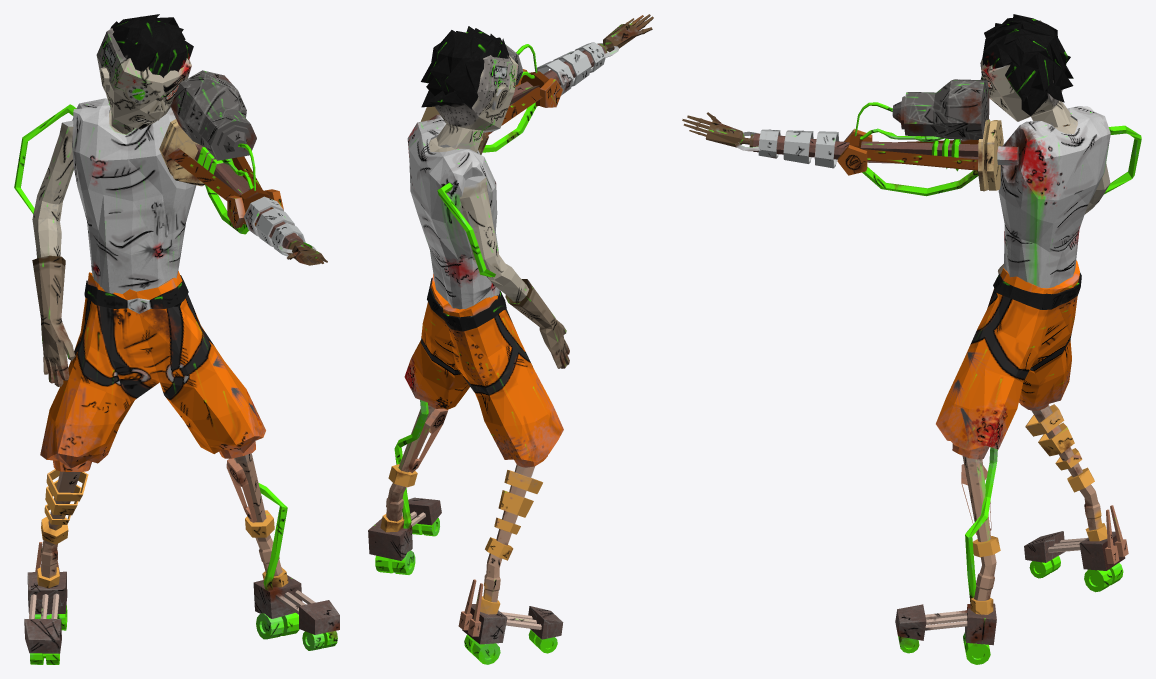
File: CyborgFINALAnimation_000129.obj
The picture shows the model from 3 angles, left to right: view 1: azimuth 30°, elevation 25°; view 2: azimuth 150°, elevation 25°; view 3: azimuth 270°, elevation 25°; orthographic projection. The views are drawn at different scales.
Parts seen in each view (by area): view 1: CyborgMesh_Cube.002; view 2: CyborgMesh_Cube.002; view 3: CyborgMesh_Cube.002.
Part boxes in pixels (box(x1,y1,x2,y2)): CyborgMesh_Cube.002: box(14, 14, 339, 664); CyborgMesh_Cube.002: box(368, 14, 653, 664); CyborgMesh_Cube.002: box(682, 14, 1141, 664).
Bounding box in the file's own units: 3.73 × 9.44 × 6.62.
